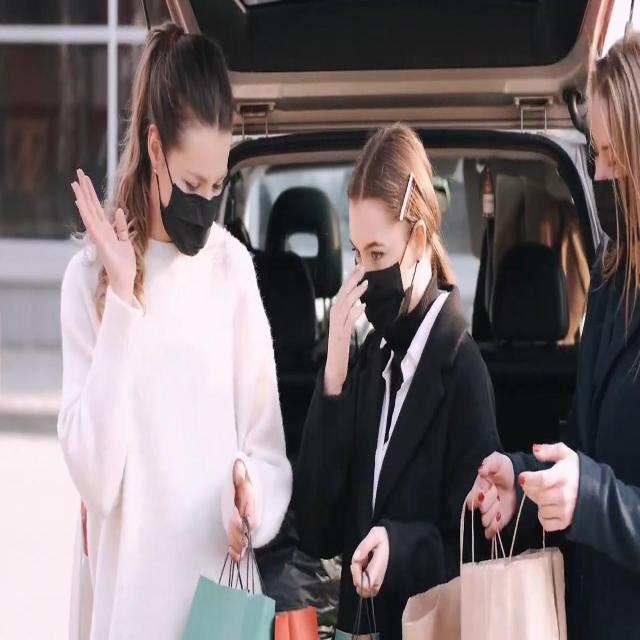no-helmet: (155, 136, 229, 258), (349, 206, 415, 332), (588, 110, 634, 246)
